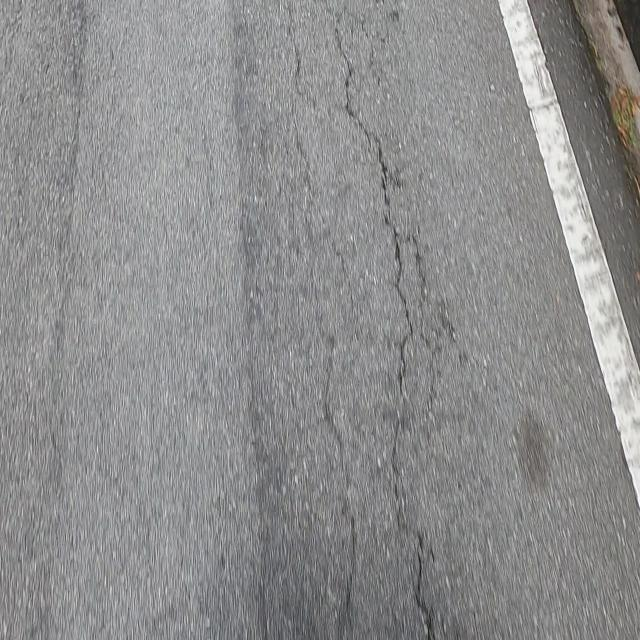Retak-Memanjang: (334, 1, 437, 640), (320, 337, 357, 607)
